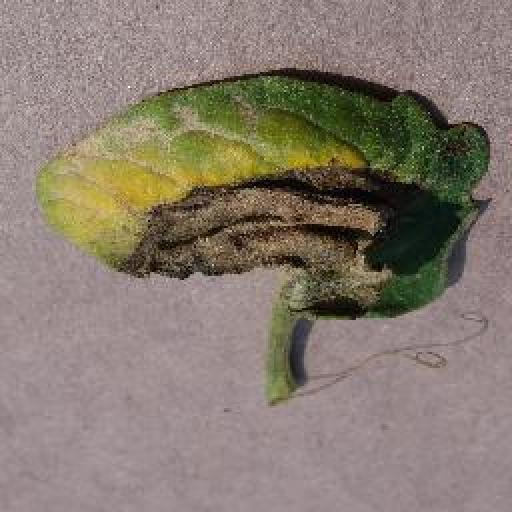Late Blight: (35, 70, 492, 318)
